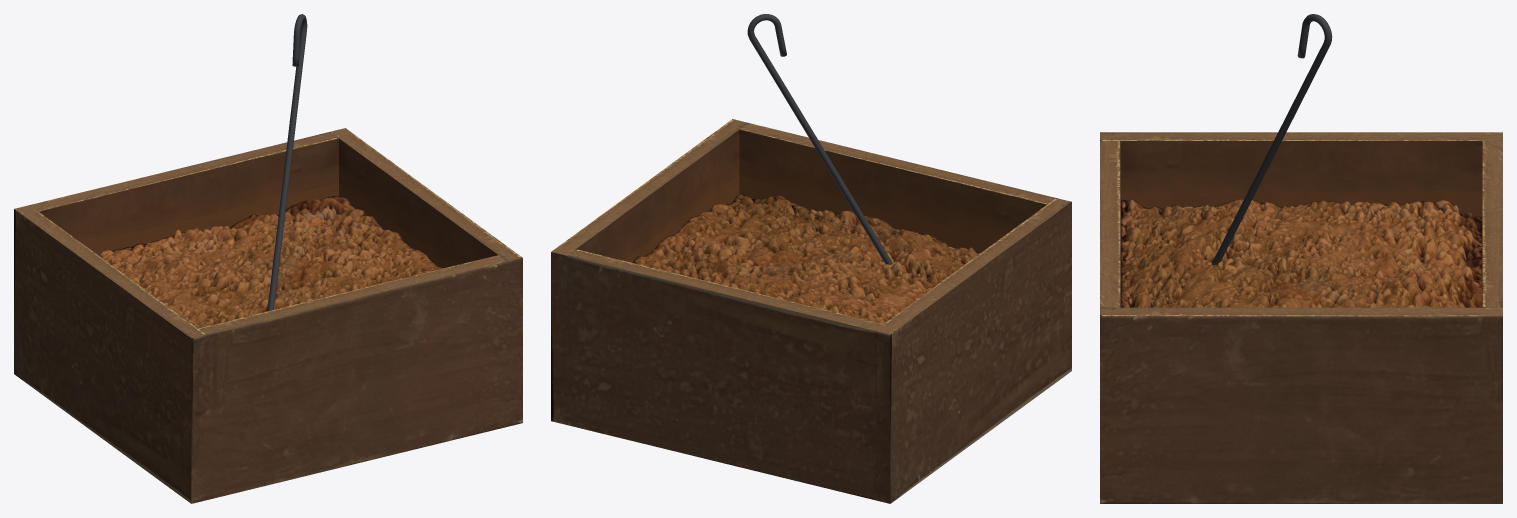
The model's file is caixa_09_01_nao_compactado.glb.
The picture shows the model from 3 angles, left to right: view 1: azimuth 30°, elevation 25°; view 2: azimuth 150°, elevation 25°; view 3: azimuth 270°, elevation 25°; orthographic projection. The views are drawn at different scales.
Visible parts, largest first — view 1: Parede_Frente_solto, Parede_Esq_solto, Solo_Nao_Compactado_Topo, Parede_Tras_solto, Parede_Dir_solto, Haste_solto; view 2: Parede_Tras_solto, Parede_Esq_solto, Solo_Nao_Compactado_Topo, Parede_Frente_solto, Parede_Dir_solto, Haste_solto; view 3: Parede_Dir_solto, Solo_Nao_Compactado_Topo, Parede_Esq_solto, Parede_Frente_solto, Parede_Tras_solto, Haste_solto.
Boxes of the visible parts, x1=… form: Parede_Frente_solto: x1=198, y1=255, x2=507, y2=499; Parede_Esq_solto: x1=14, y1=205, x2=206, y2=503; Solo_Nao_Compactado_Topo: x1=99, y1=196, x2=443, y2=328; Parede_Tras_solto: x1=30, y1=132, x2=338, y2=255; Parede_Dir_solto: x1=330, y1=128, x2=522, y2=426; Haste_solto: x1=267, y1=14, x2=307, y2=311; Parede_Tras_solto: x1=567, y1=249, x2=883, y2=499; Parede_Esq_solto: x1=874, y1=198, x2=1071, y2=503; Solo_Nao_Compactado_Topo: x1=632, y1=193, x2=980, y2=323; Parede_Frente_solto: x1=739, y1=123, x2=1055, y2=252; Parede_Dir_solto: x1=551, y1=119, x2=747, y2=424; Haste_solto: x1=747, y1=14, x2=891, y2=264; Parede_Dir_solto: x1=1100, y1=307, x2=1502, y2=503; Solo_Nao_Compactado_Topo: x1=1121, y1=198, x2=1481, y2=307; Parede_Esq_solto: x1=1100, y1=132, x2=1502, y2=307; Parede_Frente_solto: x1=1100, y1=141, x2=1120, y2=307; Parede_Tras_solto: x1=1482, y1=141, x2=1502, y2=307; Haste_solto: x1=1211, y1=14, x2=1332, y2=265.
Bounding box in the file's own units: 0.3 × 0.3189 × 0.278.
Materials: 4 (3 with a texture image).
